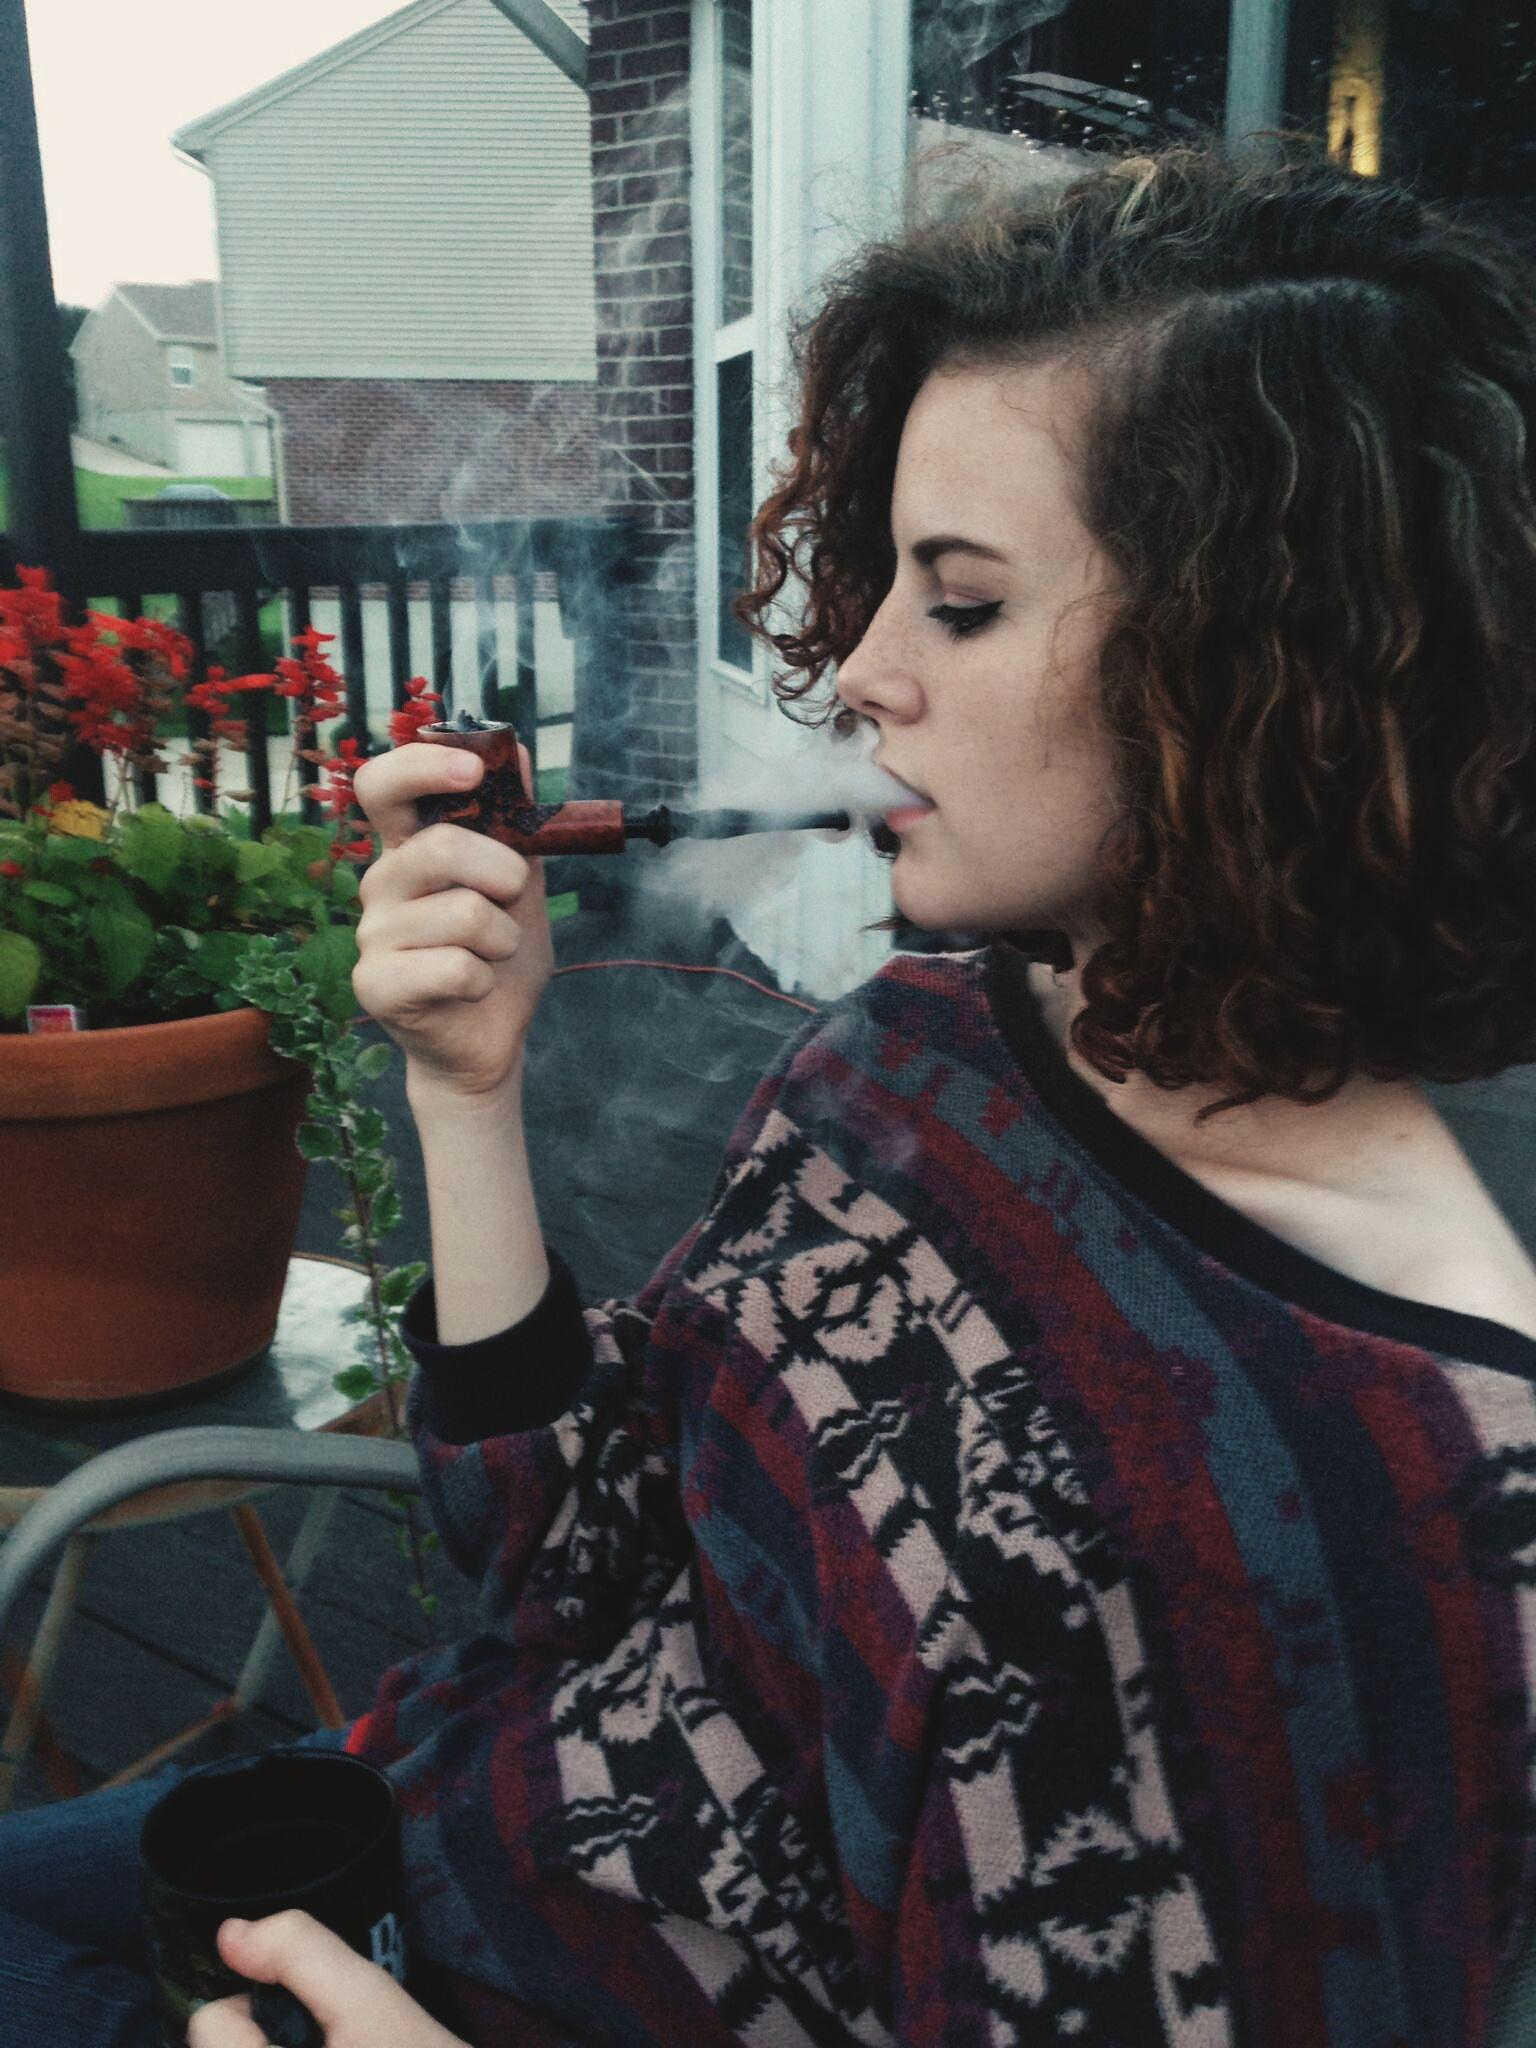trubka: (418, 718, 883, 861)
